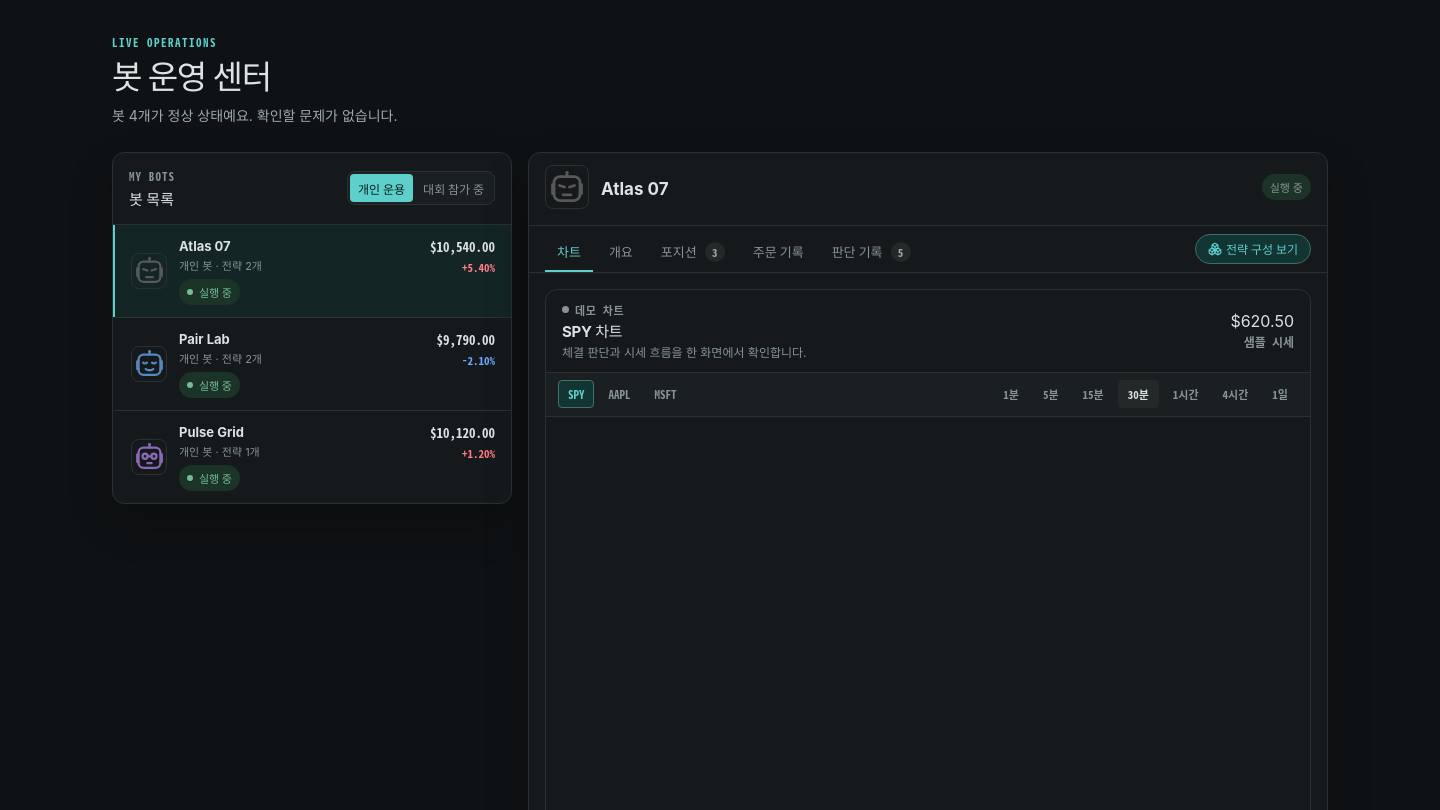
Test case: Bot operations › selecting a bot drives the detail panel instead of pinning it to one bot
The image size is (1440, 810).
Expected: the heading "Atlas 07" is shown, [601,179,668,199]
Click the tab "개요": (621, 253) [597,234,645,272]
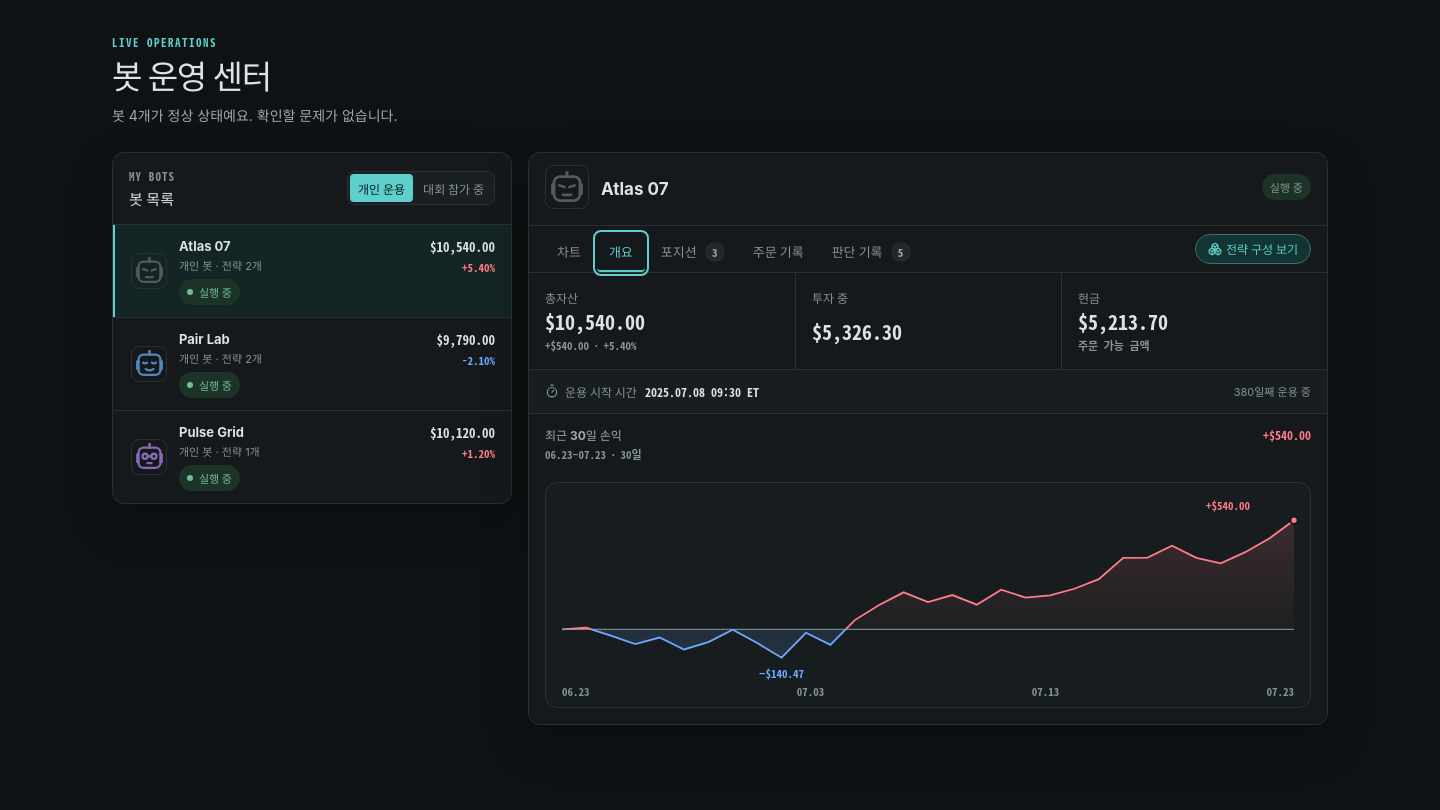
Expected: the text "$10,540.00" below "총자산" is shown, [545,307,645,336]
Expected: the text "+$540.00 · +5.40%" is shown, [545,337,637,353]
Click the button "대회 참가 중": (454, 188) [415,174,492,202]
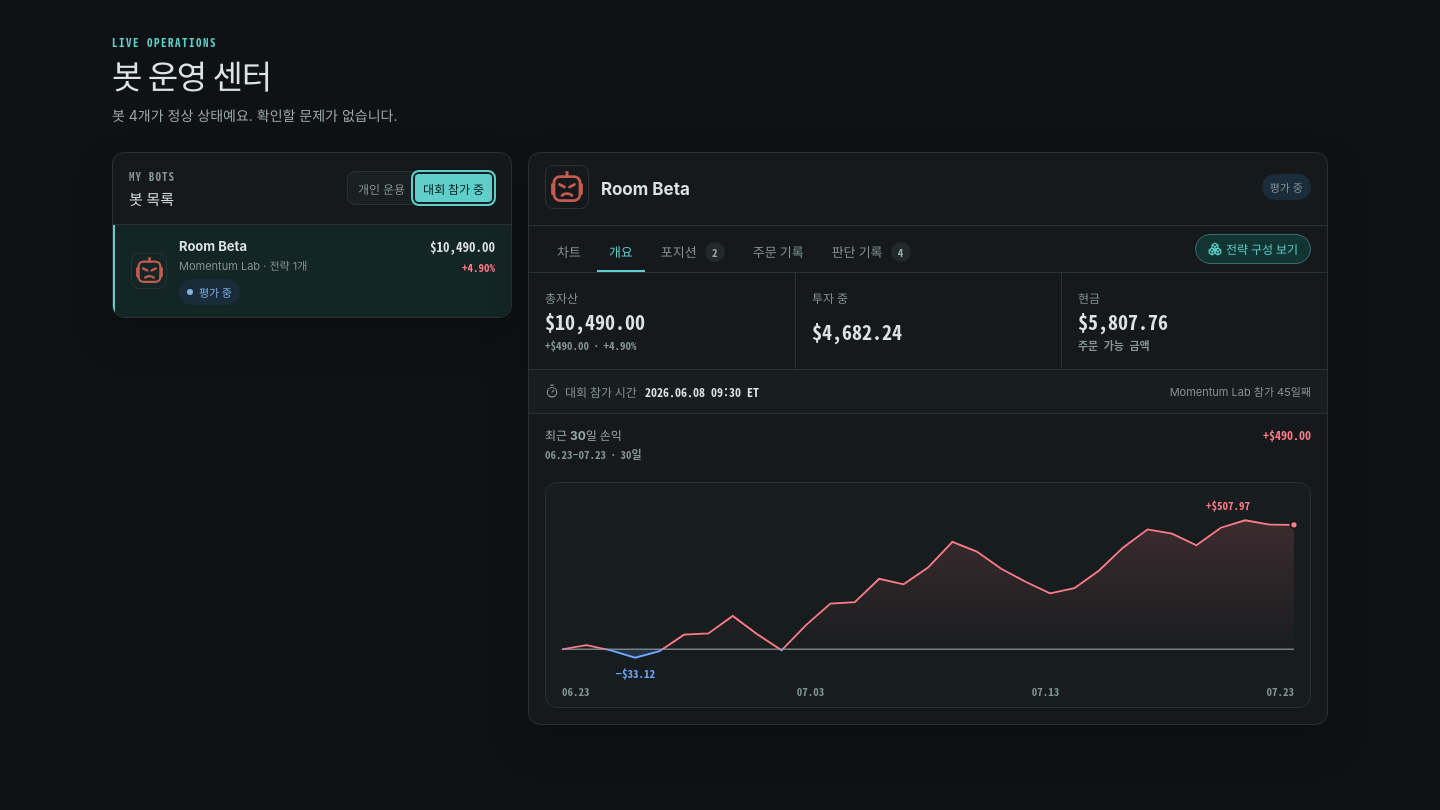
Click the button with aria-label "Room Beta 상세 보기": (149, 271) [113,225,511,317]
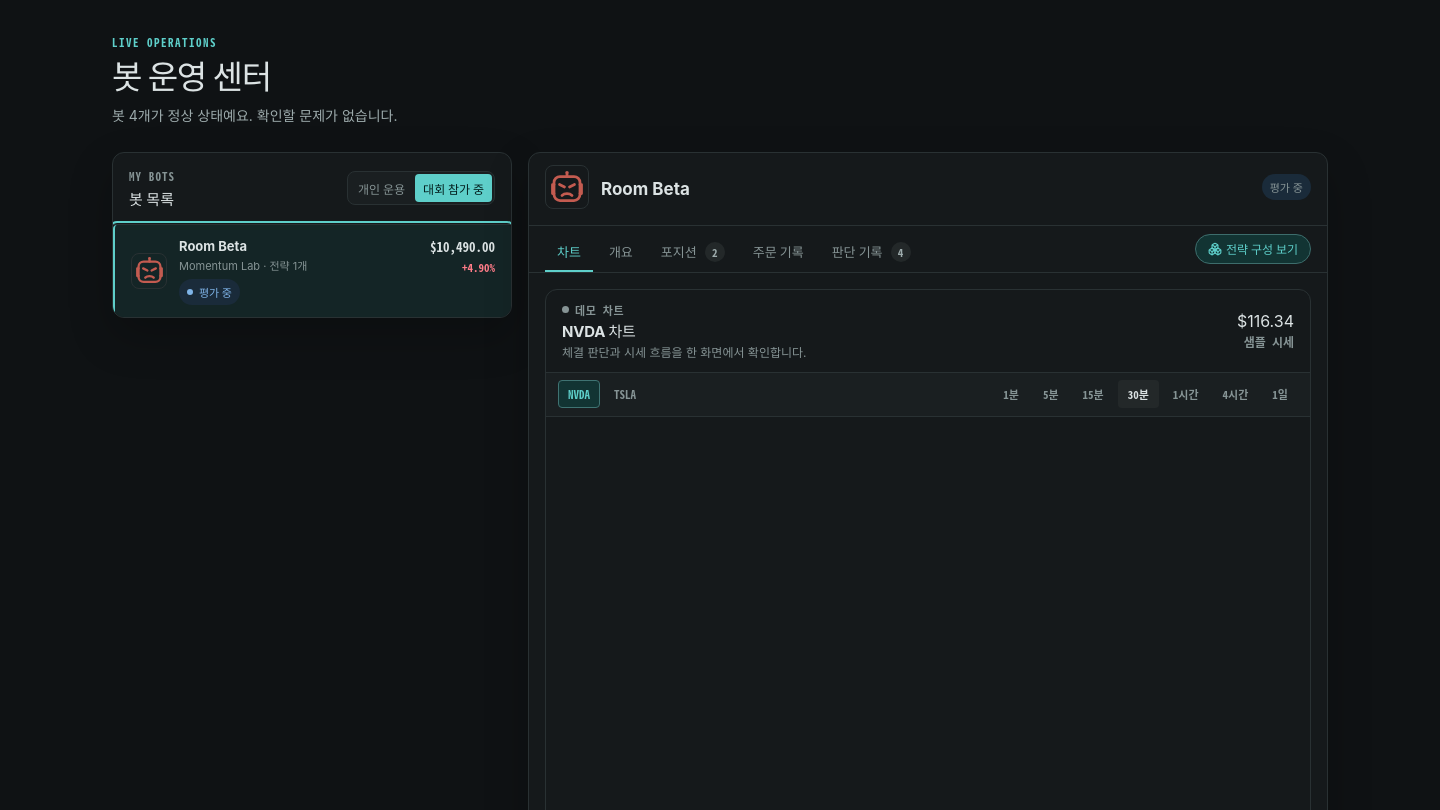
Expected: the heading "Room Beta" is shown, [601,179,690,199]
Click the tab "개요": (621, 253) [597,234,645,272]
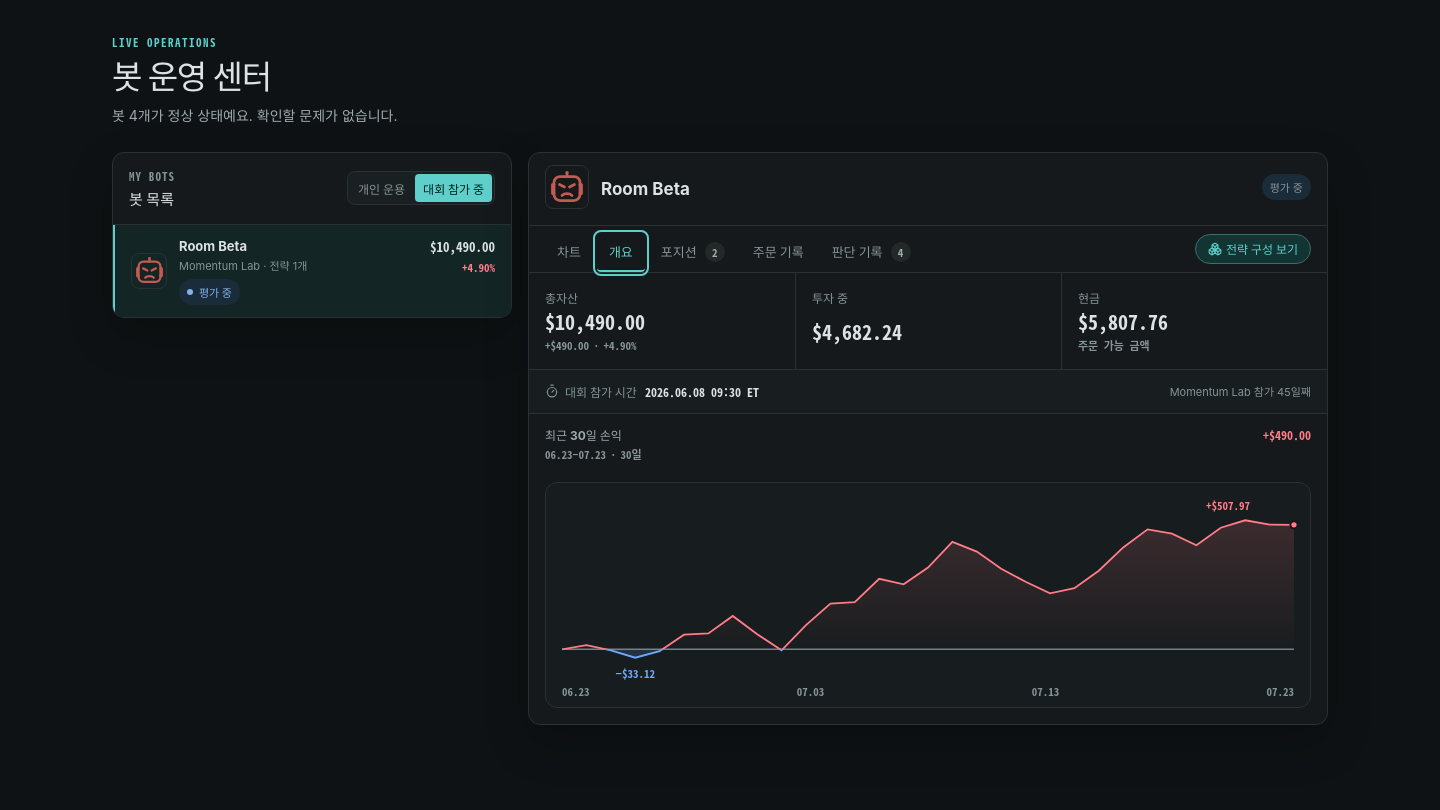
Expected: the text "$10,490.00" below "총자산" is shown, [545,307,645,336]
Expected: the text "+$490.00 · +4.90%" is shown, [545,337,637,353]
